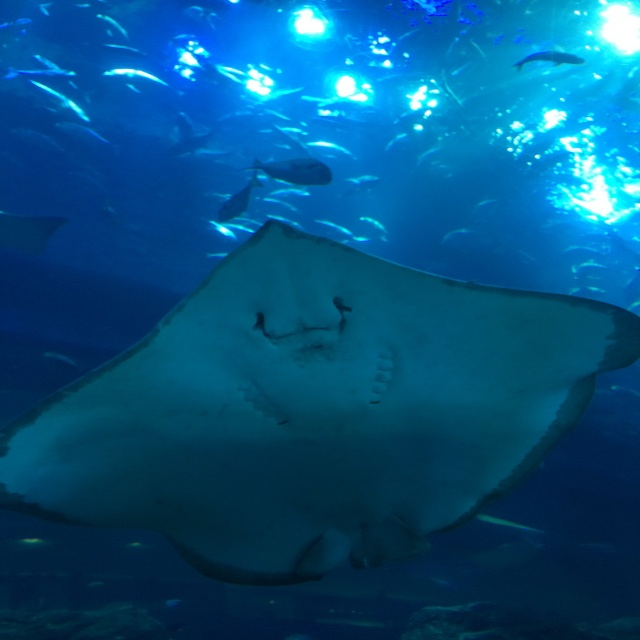Fish: (0, 0, 640, 625)
